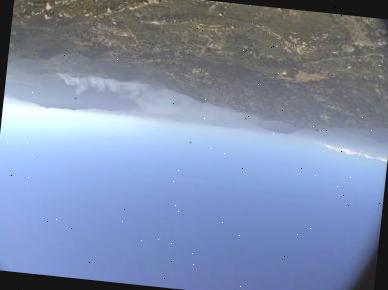smoke: (52, 70, 256, 131)
